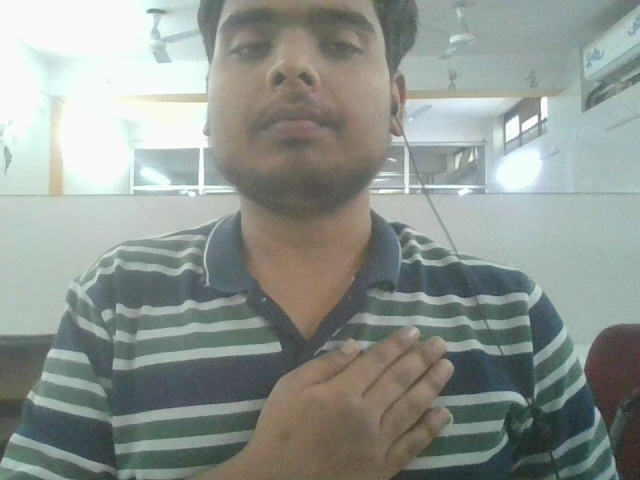Please: (212, 332, 483, 479)
